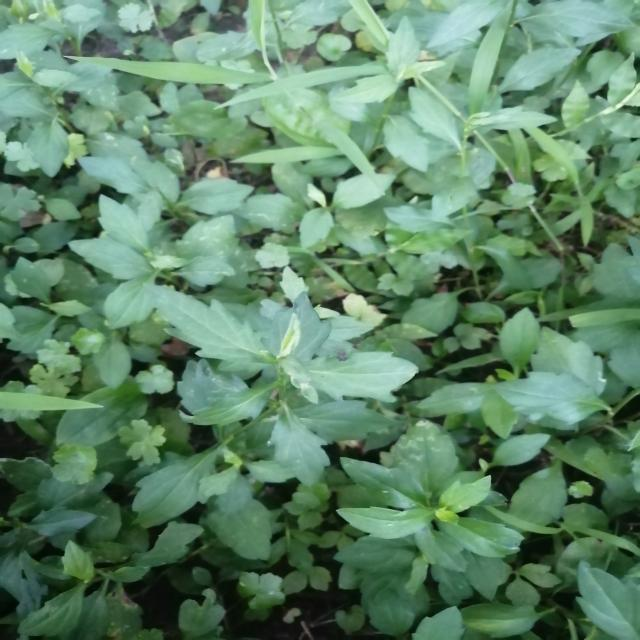Indian aster: (128, 292, 420, 494), (329, 431, 554, 582)
